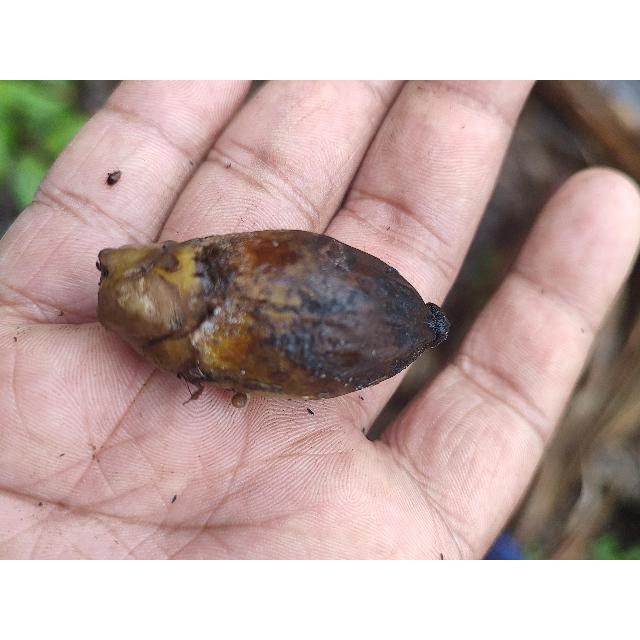damaged: (95, 230, 451, 402)
